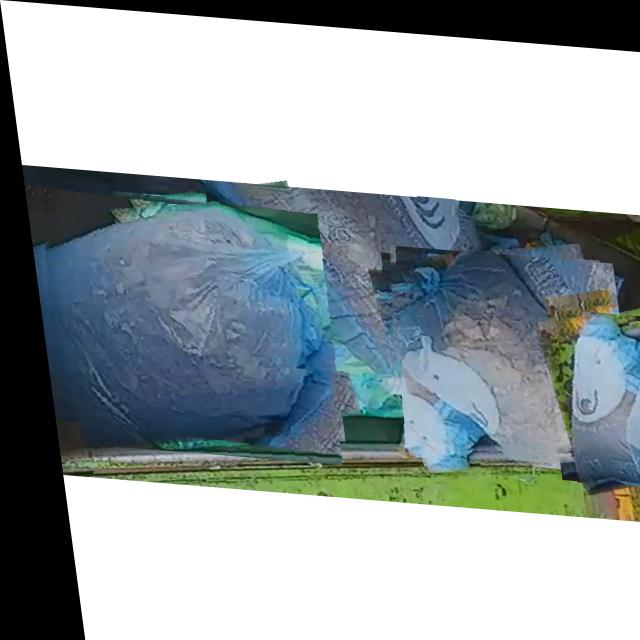other_trashbag: (36, 197, 314, 444), (382, 245, 623, 446), (204, 180, 454, 370), (563, 303, 640, 479), (300, 269, 311, 284), (303, 249, 309, 268)
